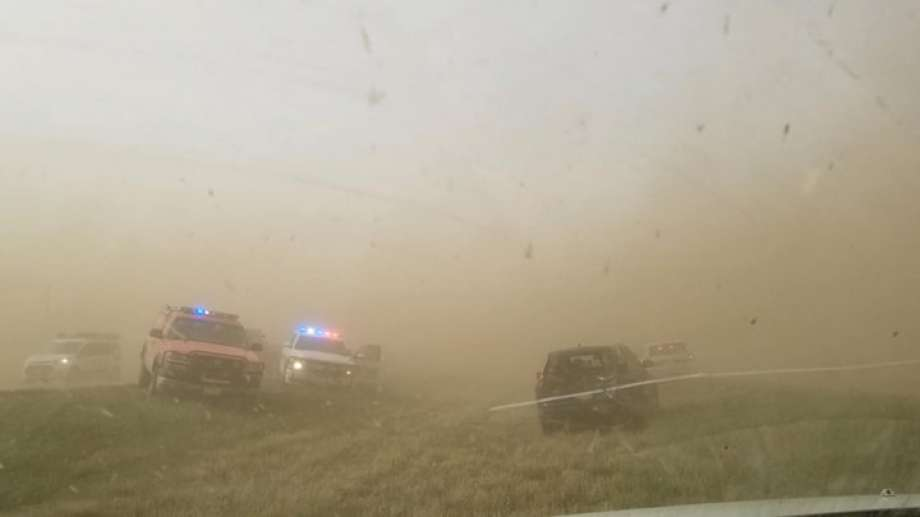car: (143, 302, 266, 408), (536, 341, 658, 429), (276, 323, 383, 388), (20, 333, 122, 381), (646, 333, 695, 376)
